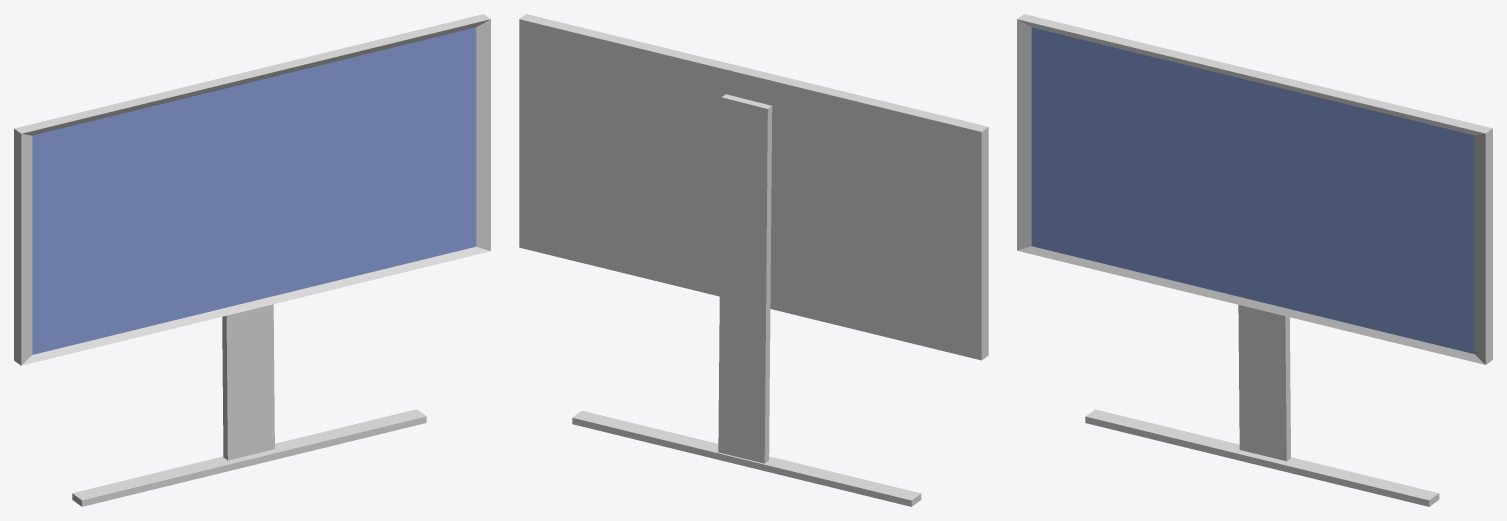
File: monitor.gltf
The picture shows the model from 3 angles, left to right: view 1: azimuth 30°, elevation 25°; view 2: azimuth 150°, elevation 25°; view 3: azimuth 330°, elevation 25°; orthographic projection.
Visible parts, largest first — view 1: Cube.002, Cube.001, Cube; view 2: Cube.002, Cube.001, Cube; view 3: Cube.002, Cube.001, Cube.
Part boxes in pixels (x1,y1,x2,y2): Cube.002: (14, 14, 490, 365); Cube.001: (222, 304, 274, 460); Cube: (72, 409, 426, 506); Cube.002: (519, 14, 988, 360); Cube.001: (718, 94, 772, 463); Cube: (572, 410, 921, 506); Cube.002: (1017, 14, 1492, 364); Cube.001: (1238, 305, 1290, 461); Cube: (1085, 409, 1439, 506).
Size of the model in its own units: 4.08 by 3.25 by 0.2054.
